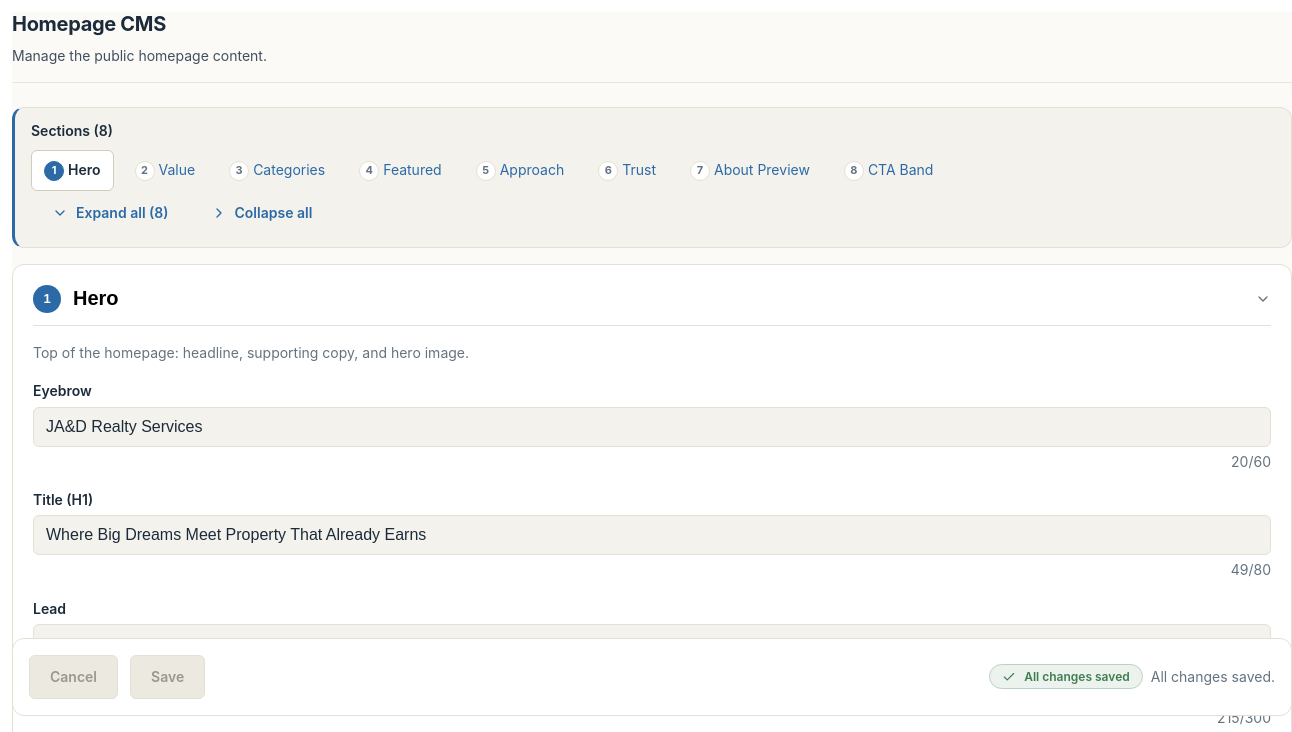
Test: CmsHomepagePage — Phase 1 Homepage CMS › validation: empty required title shows error and disables Save
The image size is (1292, 732).
Check: the heading "Hero" is shown, box [73,287,119,310]
Clear the field showing "Where Big Dreams Meet Property That Already Earns" at {"x": 652, "y": 535}, box [33,515,1271,555]
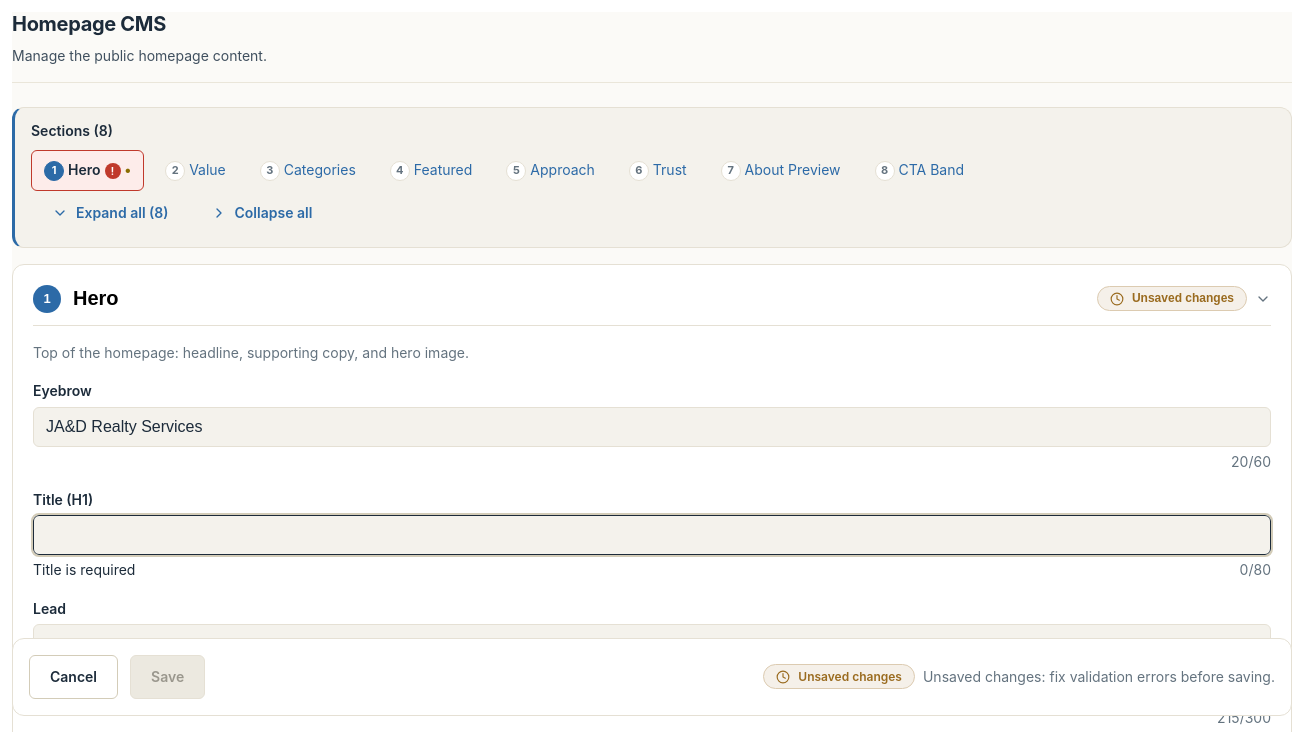
Check: the button "Save" is disabled, box [130,655,205,699]
Check: the text "Title is required" is shown, box [33,559,135,582]
